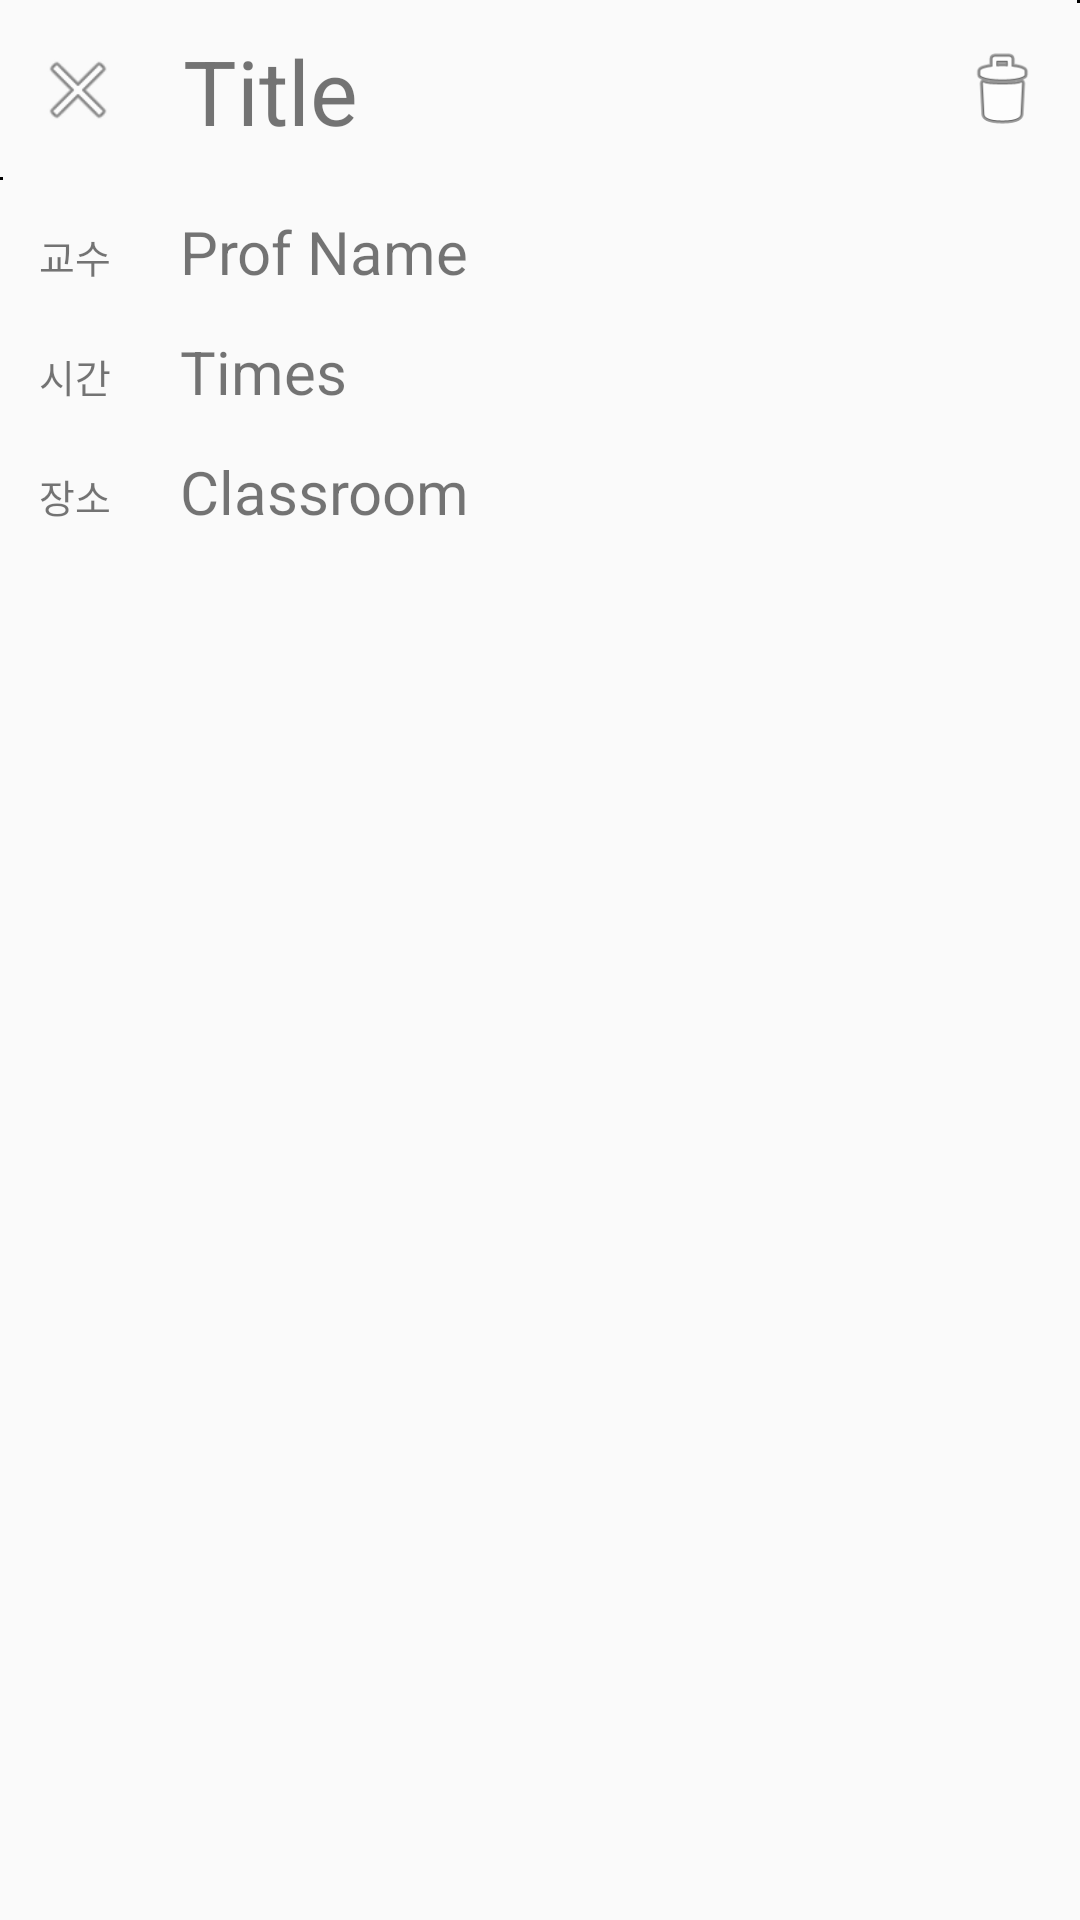

Point at icon controls on the screen. Image size 1080w x 1920h, points as (x,y).
close clear cancel: (78,90)
delete: (1002,88)
